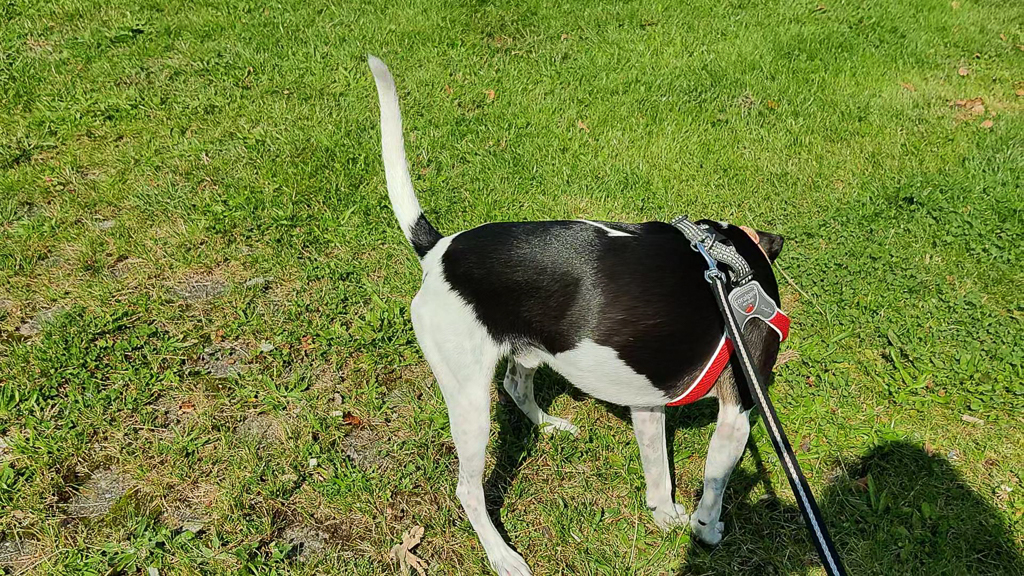Dog: (355, 41, 808, 576)
